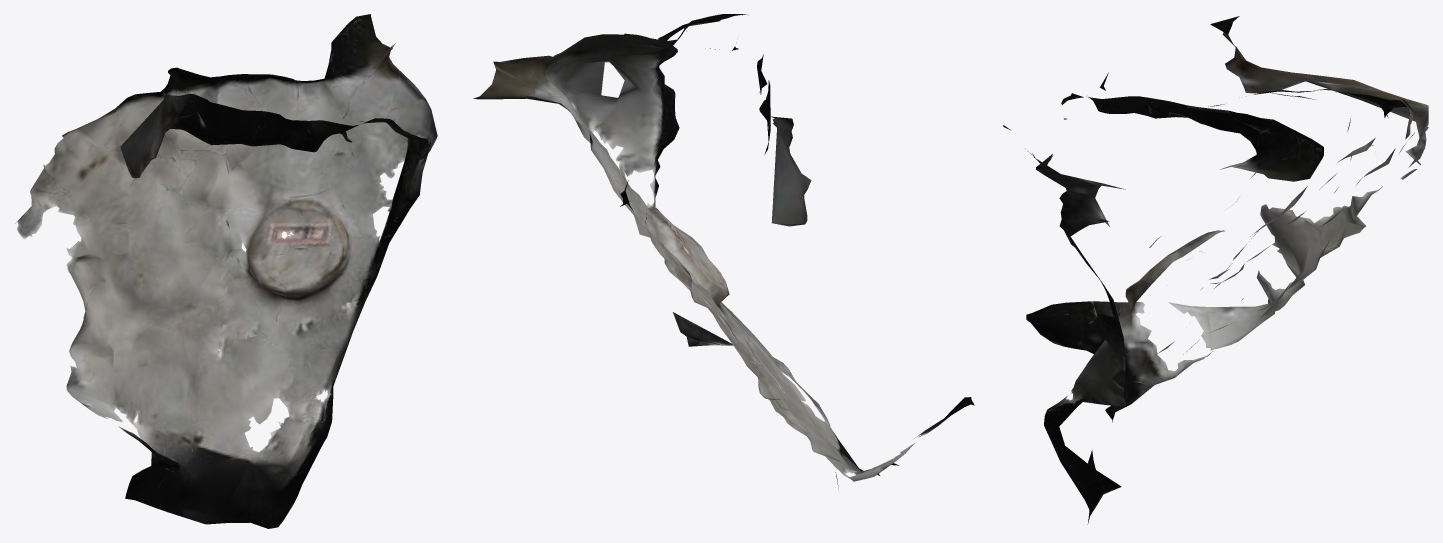
The model's file is hall.glb.
The picture shows the model from 3 angles, left to right: view 1: azimuth 30°, elevation 25°; view 2: azimuth 150°, elevation 25°; view 3: azimuth 270°, elevation 25°; orthographic projection. The views are drawn at different scales.
Size of the model in its own units: 0.6367 by 0.7409 by 0.5876.
1 material, 1 textured.
